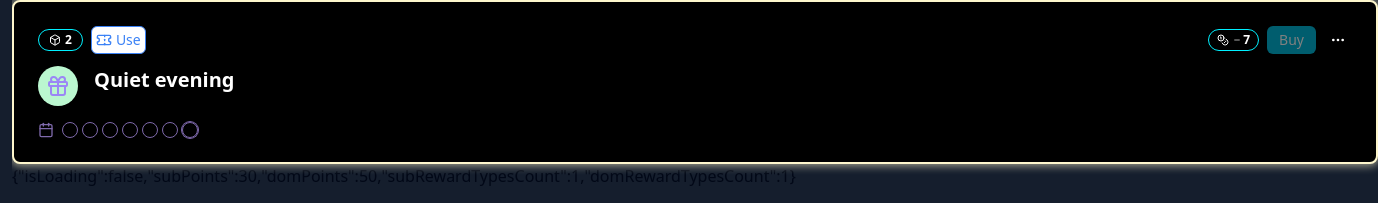
actual reward controls use the recorded command path › asks for inventory currency only when both owned currencies are usable
Later steps or results of the test are not shown.
Click the button "Use" at (118, 40), box [91,26,146,54]
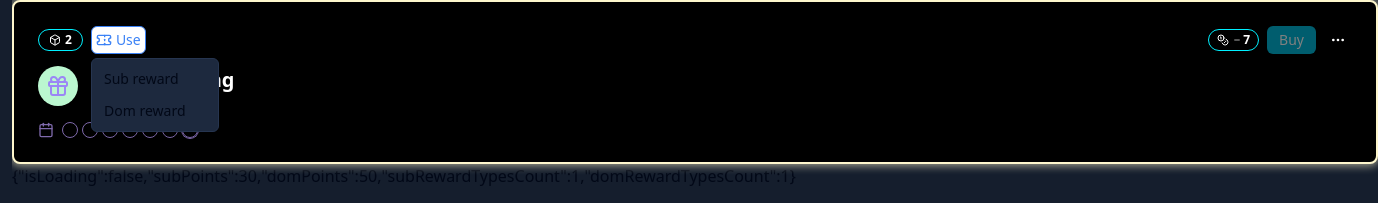
Result: the menu item "Sub reward" is shown at [104,69,179,88]
